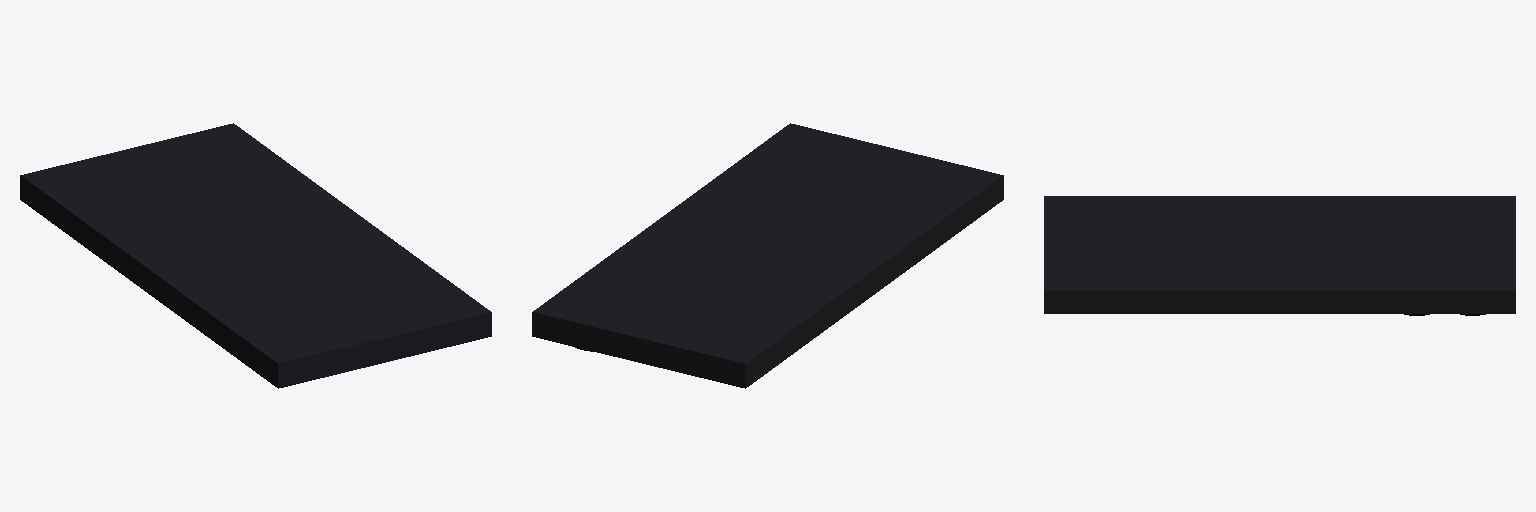
robot.urdf — iphone_17:
<?xml version="1.0"?>
<!-- iPhone 17: generated by imuninn from Apple's dimensional drawings (iphone-frames dataset). Frames: device = display centre on the front glass (x right, y top, z out of the screen); cam_*_optical = OpenCV axes. Geometry and mass are approximate. -->
<robot name="iphone_17">
  <material name="iphone_body">
    <color rgba="0.15 0.15 0.17 1" />
  </material>
  <material name="iphone_lens">
    <color rgba="0.05 0.05 0.06 1" />
  </material>
  <link name="device">
    <visual name="body">
      <origin xyz="7.10542736e-18 -1.42108547e-17 -0.003975" rpy="0 0 0" />
      <geometry>
        <box size="0.07145 0.14961 0.00795" />
      </geometry>
      <material name="iphone_body" />
    </visual>
    <collision name="body">
      <origin xyz="7.10542736e-18 -1.42108547e-17 -0.003975" rpy="0 0 0" />
      <geometry>
        <box size="0.07145 0.14961 0.00795" />
      </geometry>
    </collision>
    <visual name="lens_ultra_wide">
      <origin xyz="0.022105 0.061185 -0.009675" rpy="0 0 0" />
      <geometry>
        <cylinder radius="0.008" length="0.00345" />
      </geometry>
      <material name="iphone_lens" />
    </visual>
    <visual name="lens_main">
      <origin xyz="0.022105 0.043465 -0.009675" rpy="0 0 0" />
      <geometry>
        <cylinder radius="0.008" length="0.00345" />
      </geometry>
      <material name="iphone_lens" />
    </visual>
    <inertial>
      <origin xyz="7.10542736e-18 -1.42108547e-17 -0.003975" rpy="0 0 0" />
      <mass value="0.195" />
      <inertia ixx="0.000364753" ixy="0" ixz="0" iyy="8.3985e-05" iyz="0" izz="0.000446684" />
    </inertial>
  </link>
  <link name="magsafe" />
  <joint name="device_to_magsafe" type="fixed">
    <parent link="device" />
    <child link="magsafe" />
    <origin xyz="5e-06 -5e-06 -0.00795" rpy="3.14159265 0 3.14159265" />
  </joint>
  <link name="cam_ultra_wide_optical" />
  <joint name="device_to_cam_ultra_wide_optical" type="fixed">
    <parent link="device" />
    <child link="cam_ultra_wide_optical" />
    <origin xyz="0.022105 0.061185 -0.0114" rpy="3.14159265 0 -1.57079633" />
  </joint>
  <link name="cam_main_optical" />
  <joint name="device_to_cam_main_optical" type="fixed">
    <parent link="device" />
    <child link="cam_main_optical" />
    <origin xyz="0.022105 0.043465 -0.0114" rpy="3.14159265 0 -1.57079633" />
  </joint>
  <link name="cam_front_optical" />
  <joint name="device_to_cam_front_optical" type="fixed">
    <parent link="device" />
    <child link="cam_front_optical" />
    <origin xyz="0.007825 0.067015 0" rpy="0 0 -1.57079633" />
  </joint>
  <link name="imu" />
  <joint name="device_to_imu" type="fixed">
    <parent link="device" />
    <child link="imu" />
    <origin xyz="0 0 0" rpy="0 0 0" />
  </joint>
</robot>

--- Render facts (derived) ---
Views: 3 orthographic renders of the robot side by side, from view 1: azimuth 30°, elevation 25°; view 2: azimuth 150°, elevation 25°; view 3: azimuth 270°, elevation 25°.
Model iphone_17 with 6 links and 5 joints (5 fixed), rooted at device, posed every joint at zero.
Links seen in each view (by area): view 1: device; view 2: device; view 3: device.
Boxes of the visible links, x1,y1,x2,y2 form: device: [20, 123, 491, 388]; device: [532, 123, 1003, 388]; device: [1044, 196, 1515, 315].
Size in the robot's own frame: 0.0715 by 0.1496 by 0.0114 metres.
Geometry: primitives only (box / cylinder / sphere), no mesh files.
